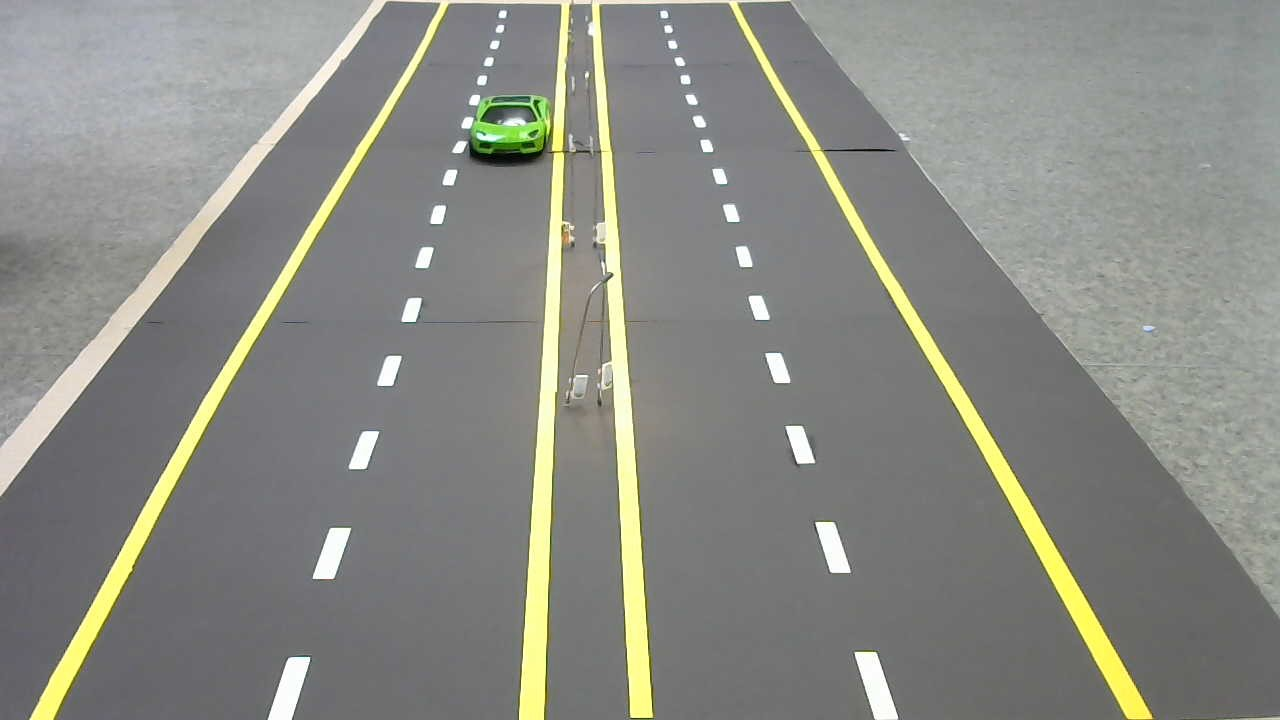front_car: (467, 90, 554, 167)
